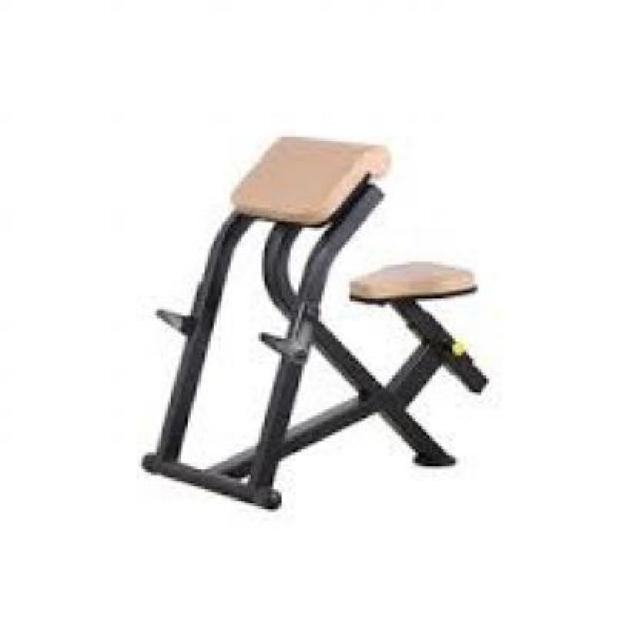arm curl machine: (138, 134, 490, 512)
